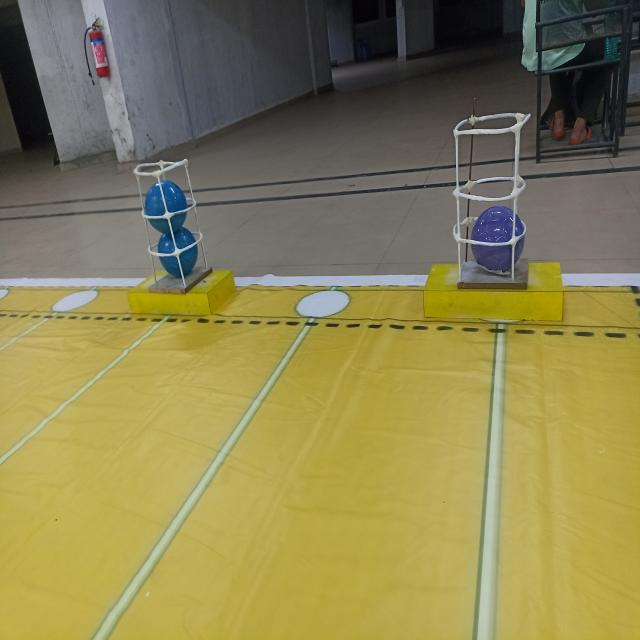blue_ball: (146, 182, 184, 229), (161, 231, 195, 275)
purple_ball: (472, 206, 525, 273)
silo: (452, 110, 528, 303), (134, 158, 210, 298)
